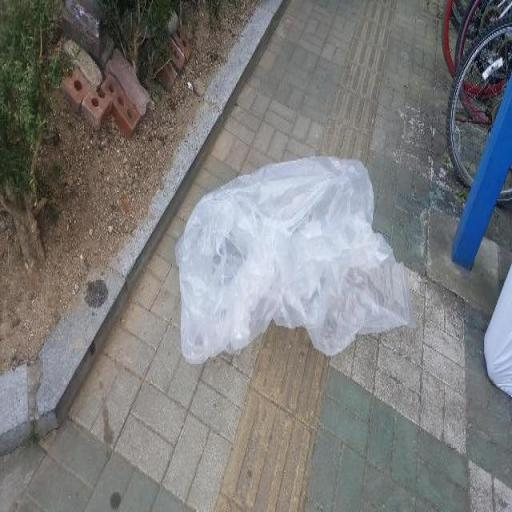plastic-bag: (174, 152, 410, 368)
